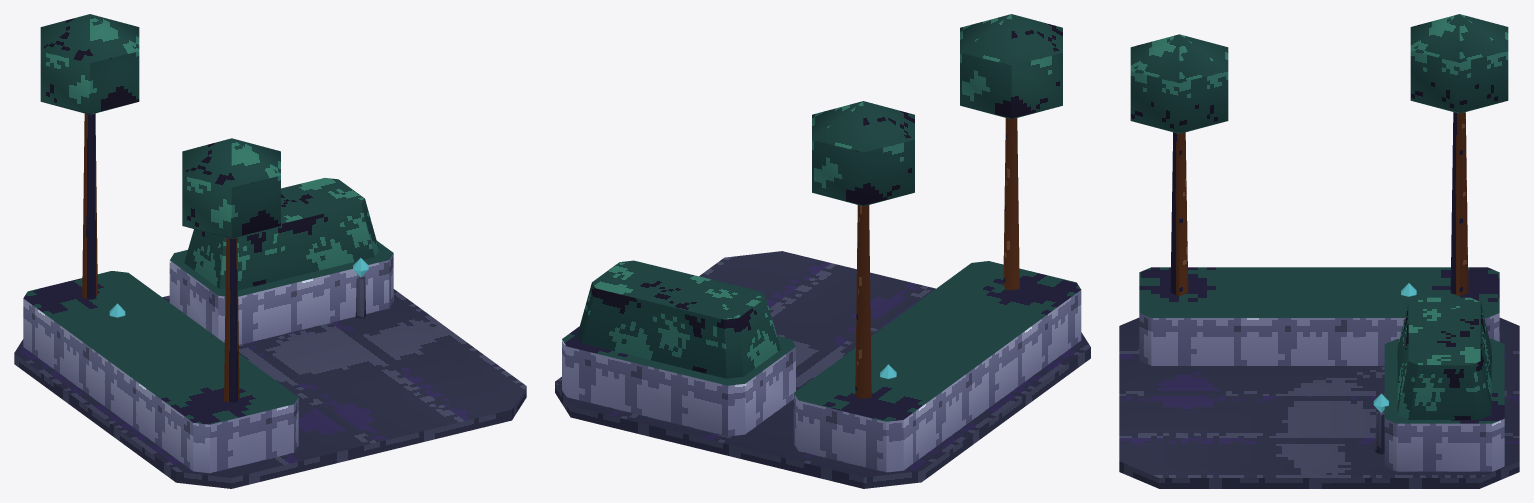
The model's file is cytower.garden__small.glb.
3 views of the same model, side by side, from view 1: azimuth 30°, elevation 25°; view 2: azimuth 150°, elevation 25°; view 3: azimuth 270°, elevation 25° (orthographic). The views are drawn at different scales.
Parts seen in each view (by area): view 1: kit_beds, kit_plants, kit_pergola; view 2: kit_beds, kit_plants; view 3: kit_beds, kit_plants, kit_pergola.
Part boxes in pixels (x1=…): kit_beds: x1=14, y1=241, x2=526, y2=488; kit_plants: x1=40, y1=14, x2=378, y2=402; kit_pergola: x1=109, y1=258, x2=368, y2=319; kit_beds: x1=555, y1=251, x2=1090, y2=488; kit_plants: x1=577, y1=14, x2=1062, y2=398; kit_beds: x1=1119, y1=267, x2=1519, y2=488; kit_plants: x1=1130, y1=14, x2=1508, y2=419; kit_pergola: x1=1373, y1=283, x2=1416, y2=454.
Bounding box in the file's own units: 4 × 3.72 × 4.
Materials: 8 (8 with a texture image).
